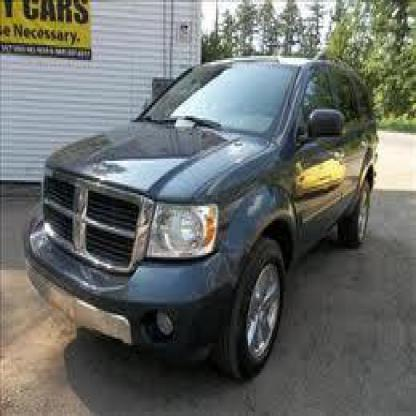Vehicle: (24, 54, 382, 390)
